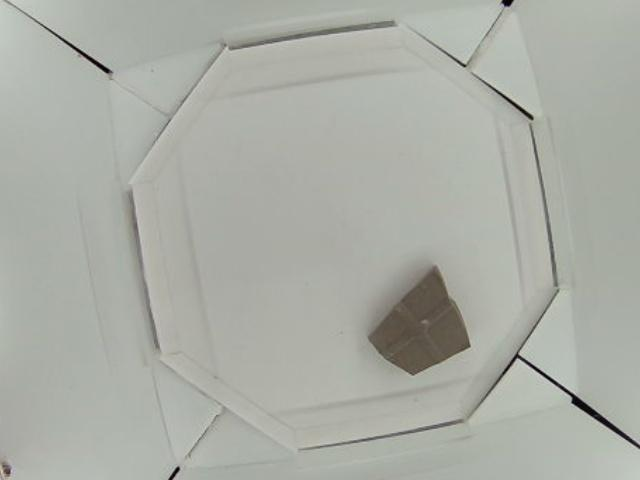China: (371, 264, 473, 373)
